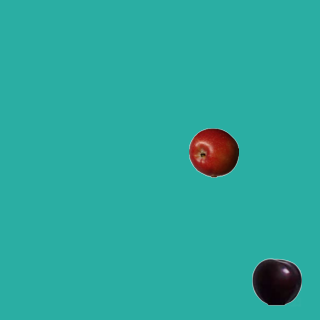Apple Braeburn: (188, 127, 238, 177)
Cherry Wax Black: (251, 256, 301, 306)
